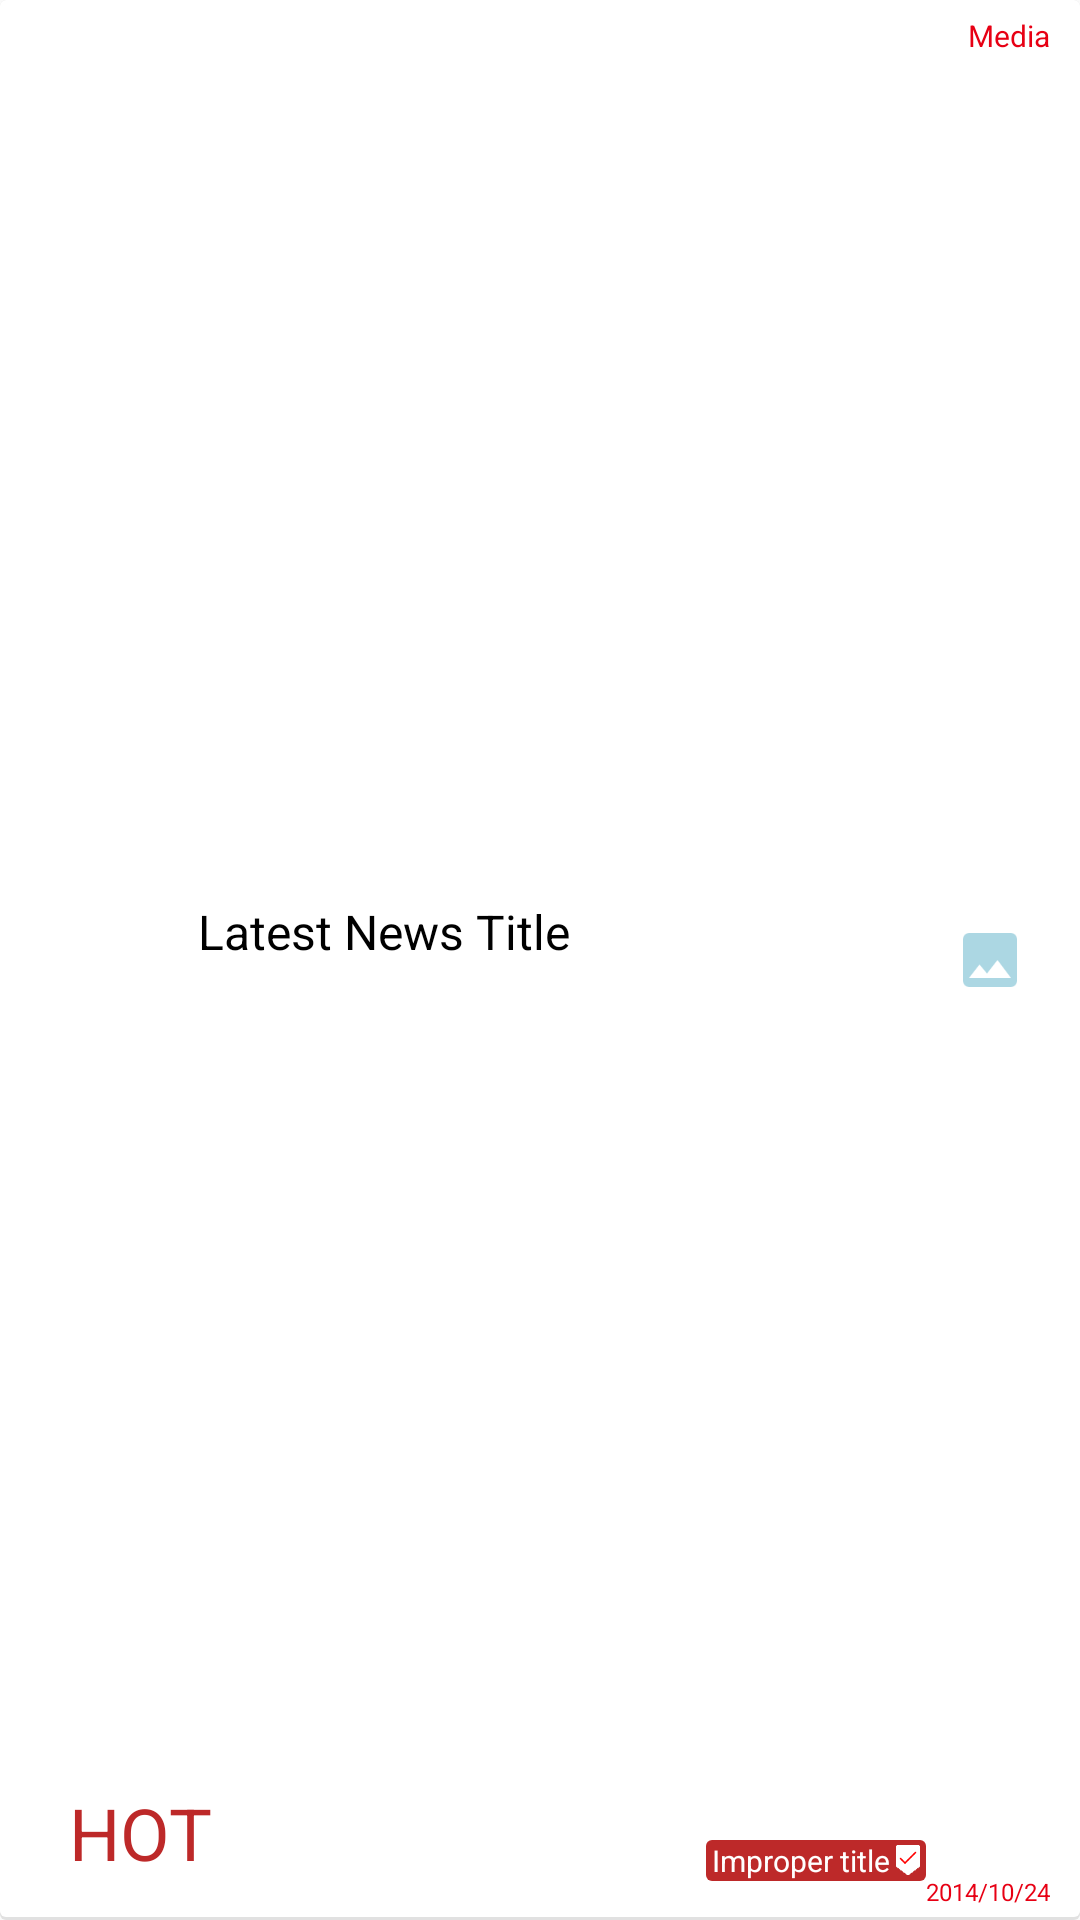

Icons on this 1080 × 1920 Android screen, each with the point to tap as [x,y]:
violation checked: [908,1860]
